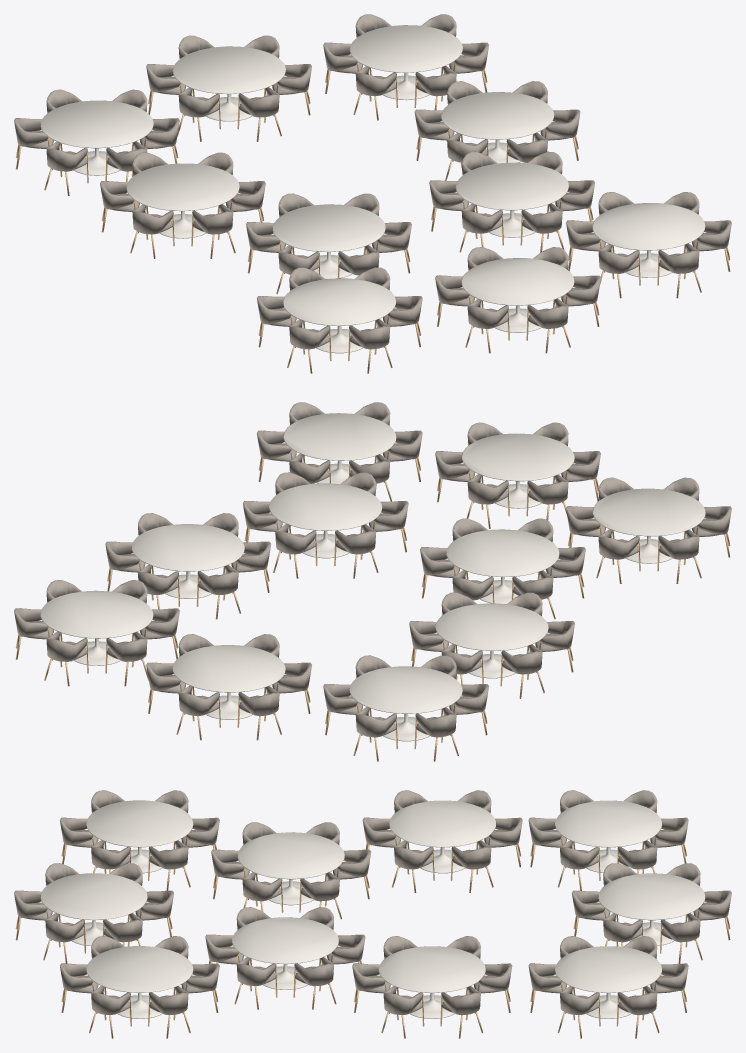
File: 8x12-dinner.glb
3 views of the same model, one above another, from view 1: azimuth 30°, elevation 25°; view 2: azimuth 150°, elevation 25°; view 3: azimuth 270°, elevation 25° (orthographic). The views are drawn at different scales.
Visible parts, largest first — view 1: Stuhlkreis.009, Stuhlkreis.007, Stuhlkreis, Stuhlkreis.003, Stuhlkreis.008, Stuhlkreis.006, Stuhlkreis.001, Stuhlkreis.002, Stuhlkreis.005, Stuhlkreis.004; view 2: Stuhlkreis.002, Stuhlkreis, Stuhlkreis.001, Stuhlkreis.006, Stuhlkreis.009, Stuhlkreis.007, Stuhlkreis.004, Stuhlkreis.003, Stuhlkreis.005, Stuhlkreis.008; view 3: Stuhlkreis.001, Stuhlkreis.004, Stuhlkreis.008, Stuhlkreis.003, Stuhlkreis.005, Stuhlkreis.006, Stuhlkreis, Stuhlkreis.002, Stuhlkreis.007, Stuhlkreis.009.
Part boxes in pixels (x1,y1,x2,y2): Stuhlkreis.009: (257, 267, 422, 373); Stuhlkreis.007: (435, 247, 600, 353); Stuhlkreis: (146, 35, 311, 141); Stuhlkreis.003: (100, 152, 265, 258); Stuhlkreis.008: (566, 192, 731, 298); Stuhlkreis.006: (429, 151, 594, 252); Stuhlkreis.001: (323, 14, 488, 120); Stuhlkreis.002: (14, 89, 179, 195); Stuhlkreis.005: (246, 193, 411, 294); Stuhlkreis.004: (414, 81, 580, 180); Stuhlkreis.002: (323, 655, 488, 761); Stuhlkreis: (146, 634, 311, 740); Stuhlkreis.001: (14, 580, 179, 686); Stuhlkreis.006: (243, 472, 408, 578); Stuhlkreis.009: (566, 477, 731, 583); Stuhlkreis.007: (435, 422, 600, 528); Stuhlkreis.004: (105, 513, 271, 619); Stuhlkreis.003: (409, 592, 574, 698); Stuhlkreis.005: (420, 518, 585, 619); Stuhlkreis.008: (257, 402, 422, 501); Stuhlkreis.001: (528, 936, 688, 1038); Stuhlkreis.004: (352, 936, 512, 1038); Stuhlkreis.008: (60, 936, 219, 1038); Stuhlkreis.003: (362, 790, 522, 892); Stuhlkreis.005: (211, 822, 371, 919); Stuhlkreis.006: (205, 907, 365, 1009); Stuhlkreis: (572, 863, 731, 963); Stuhlkreis.002: (528, 790, 688, 890); Stuhlkreis.007: (14, 863, 173, 963); Stuhlkreis.009: (60, 790, 219, 890).
Bounding box in the file's own units: 8.6 × 0.8096 × 12.5.
Materials: 4 (1 with a texture image).
